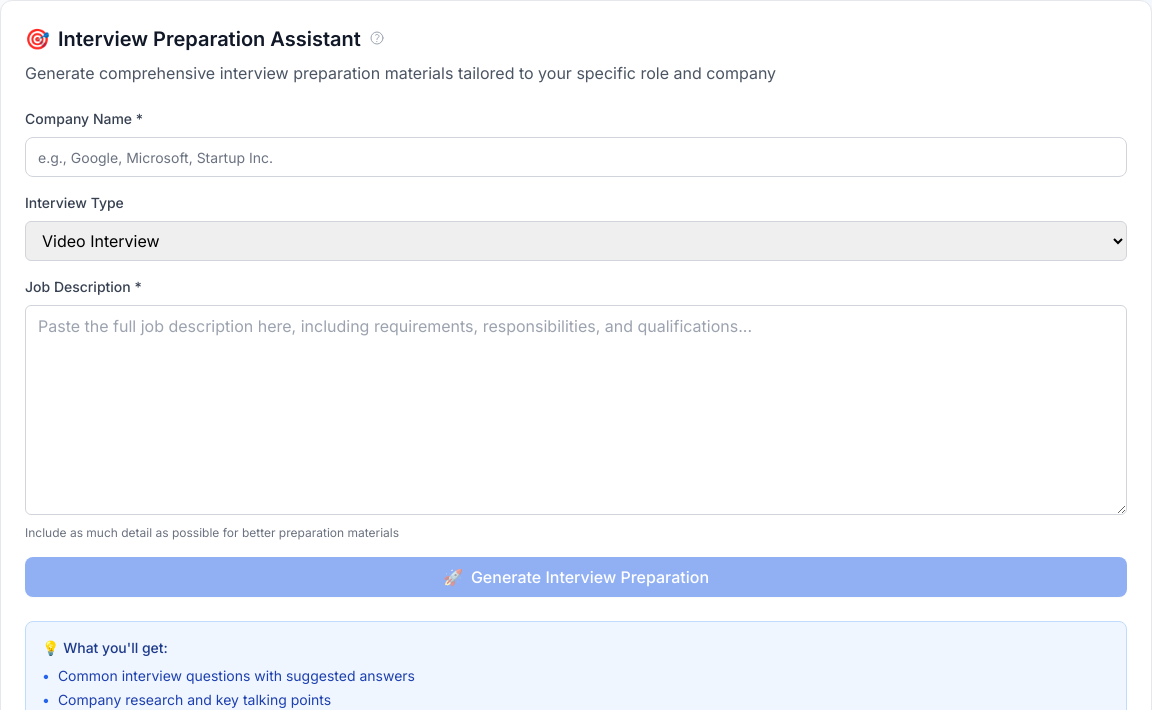
Scenario: InterviewPreparation › handles API errors gracefully
This screenshot has width=1152, height=710.
# Fill in the form
Type "Google" into the field labelled "Company Name *" at (576, 157), box top-left (25, 137), bottom-right (1127, 177)
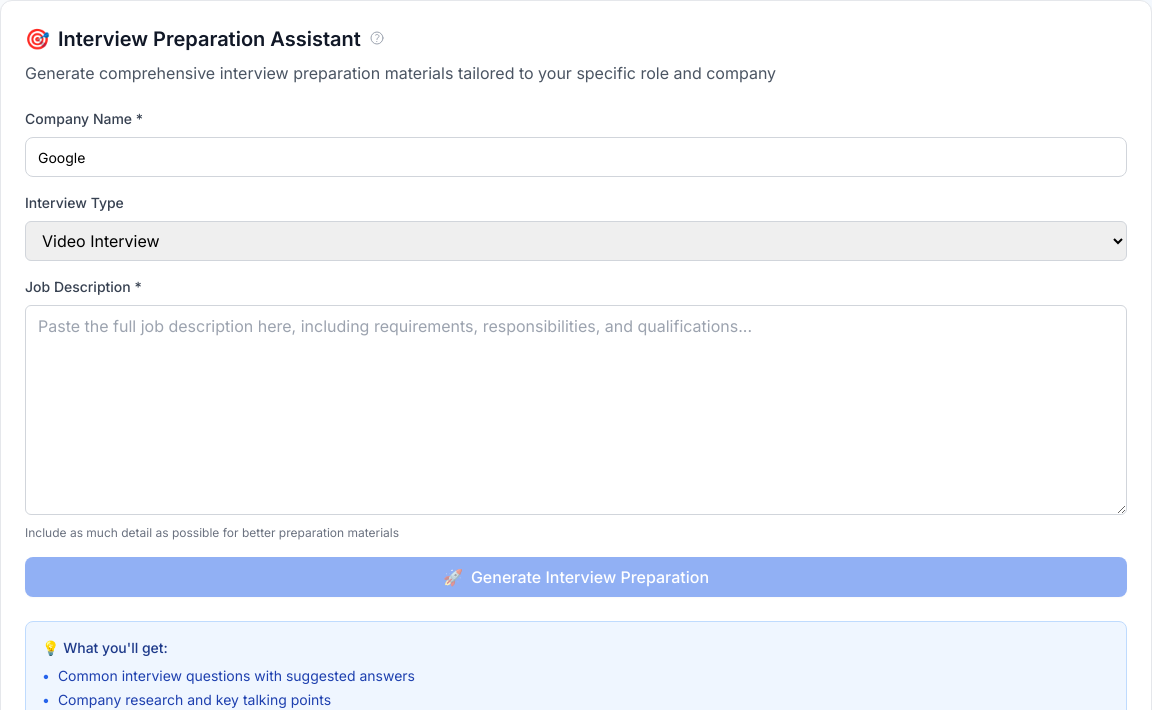
Replace the text in the text box labelled "Job Description *" with "Software Engineer position..." at (576, 410), box top-left (25, 305), bottom-right (1127, 515)
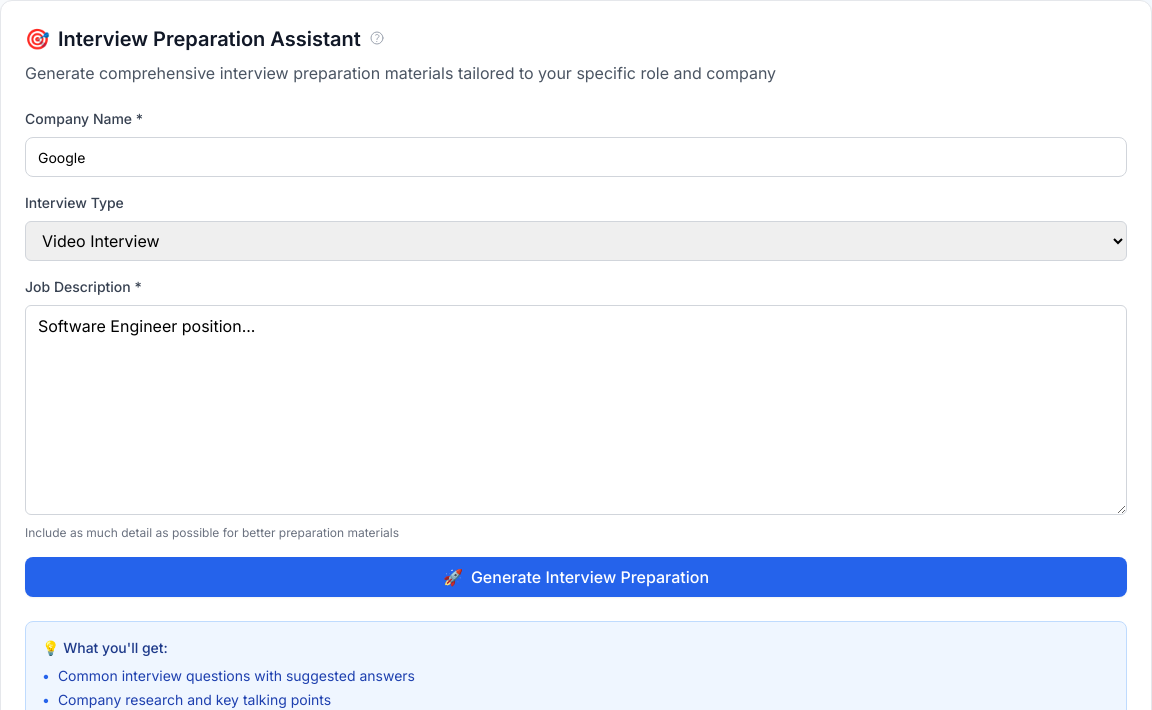
# Submit the form
Click the button "🚀 Generate Interview Preparation" at (576, 577), box top-left (25, 557), bottom-right (1127, 597)
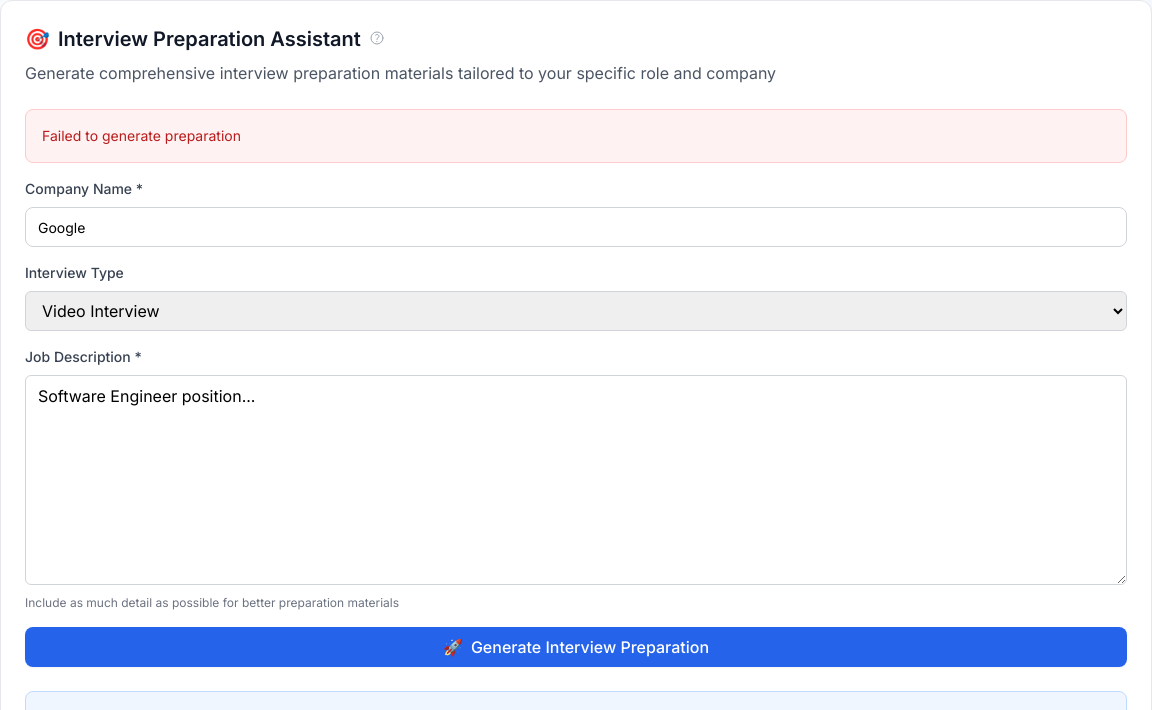
Now the text "Failed to generate preparation" is shown, box top-left (42, 127), bottom-right (241, 144)
